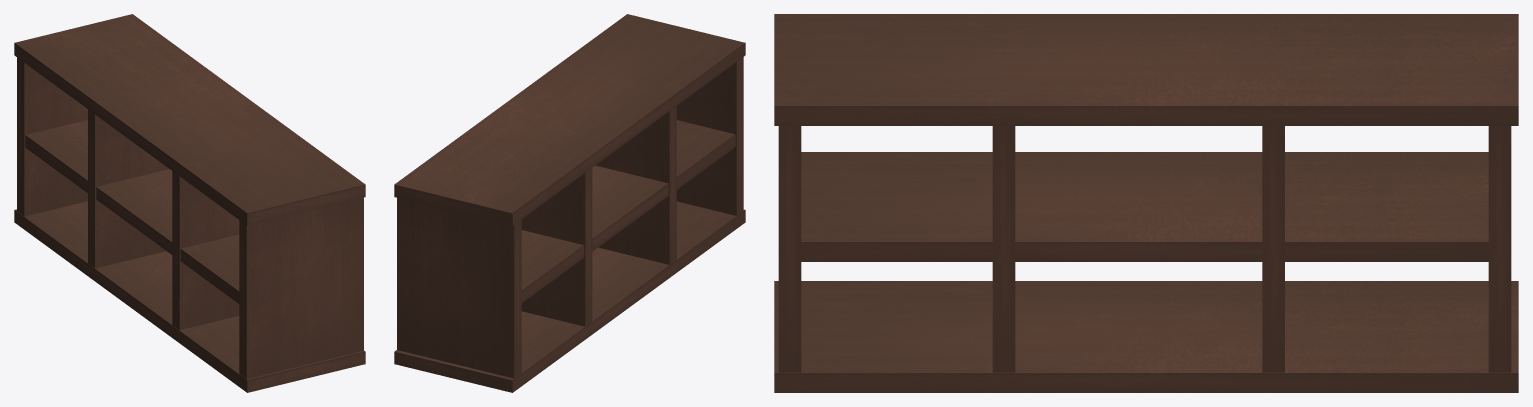
File: Tumba.fbx
The picture shows the model from 3 angles, left to right: view 1: azimuth 30°, elevation 25°; view 2: azimuth 150°, elevation 25°; view 3: azimuth 270°, elevation 25°; orthographic projection. The views are drawn at different scales.
Parts seen in each view (by area): view 1: Cube.015, Cube.016, Cube.017, Cube.014, Cube.336, Cube.018, Cube.008; view 2: Cube.015, Cube.018, Cube.017, Cube.014, Cube.008, Cube.336, Cube.016; view 3: Cube.015, Cube.017, Cube.014, Cube.016, Cube.008, Cube.018, Cube.336.
Boxes of the visible parts, x1,y1,x2,y2 form: Cube.015: (14, 14, 365, 225); Cube.016: (239, 197, 363, 379); Cube.017: (14, 201, 365, 392); Cube.014: (25, 120, 239, 303); Cube.336: (88, 109, 168, 268); Cube.018: (17, 57, 87, 216); Cube.008: (172, 171, 239, 330); Cube.015: (394, 14, 745, 225); Cube.018: (397, 197, 521, 378); Cube.017: (394, 201, 745, 392); Cube.014: (521, 120, 735, 302); Cube.008: (595, 106, 676, 264); Cube.336: (521, 168, 592, 326); Cube.016: (676, 57, 743, 215); Cube.015: (774, 14, 1518, 125); Cube.017: (774, 281, 1518, 392); Cube.014: (801, 152, 1488, 261); Cube.016: (778, 126, 801, 372); Cube.008: (992, 126, 1015, 372); Cube.018: (1488, 126, 1511, 372); Cube.336: (1262, 126, 1284, 372).
Size of the model in its own units: 111 by 161 by 378.
Materials: 2 (2 with a texture image).
